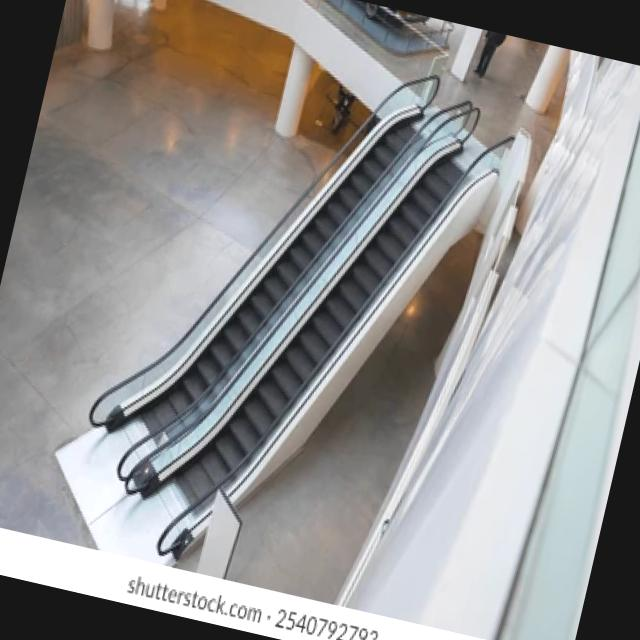escalator: (45, 67, 522, 572)
